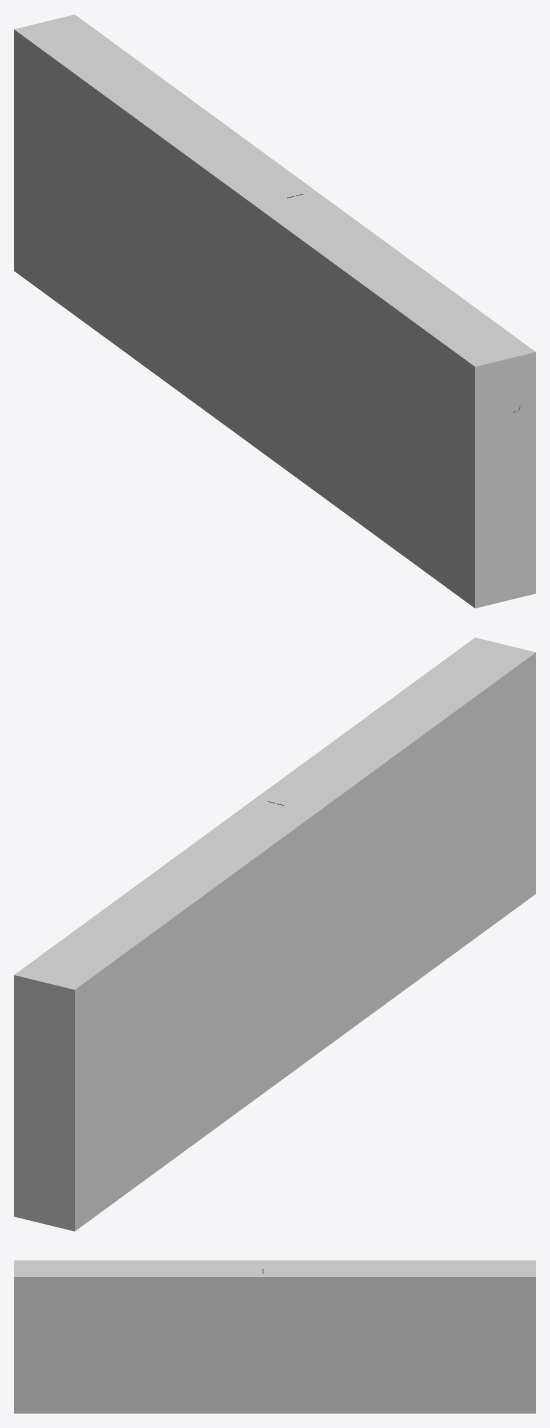
File: druglord_akm.fbx
The picture shows the model from 3 angles, top to bottom: view 1: azimuth 30°, elevation 25°; view 2: azimuth 150°, elevation 25°; view 3: azimuth 270°, elevation 25°; orthographic projection. The views are drawn at different scales.
Parts seen in each view (by area): view 1: bo_druglord_akm; view 2: bo_druglord_akm; view 3: bo_druglord_akm.
Boxes of the visible parts, left/top/right/bottom form: bo_druglord_akm: left=14, top=14, right=535, bottom=608; bo_druglord_akm: left=14, top=637, right=535, bottom=1231; bo_druglord_akm: left=14, top=1260, right=535, bottom=1413.
Size of what is drawn, in the model's own units: 0.0955 by 0.3623 by 1.25.
